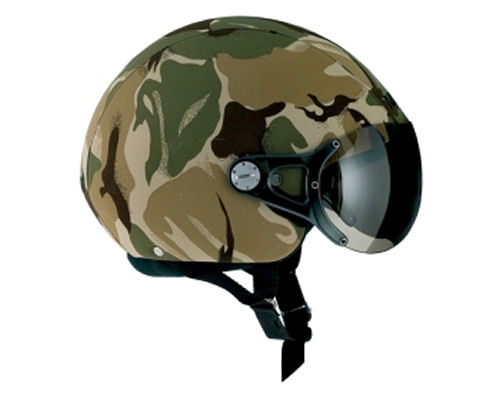helmet: (93, 26, 432, 284)
